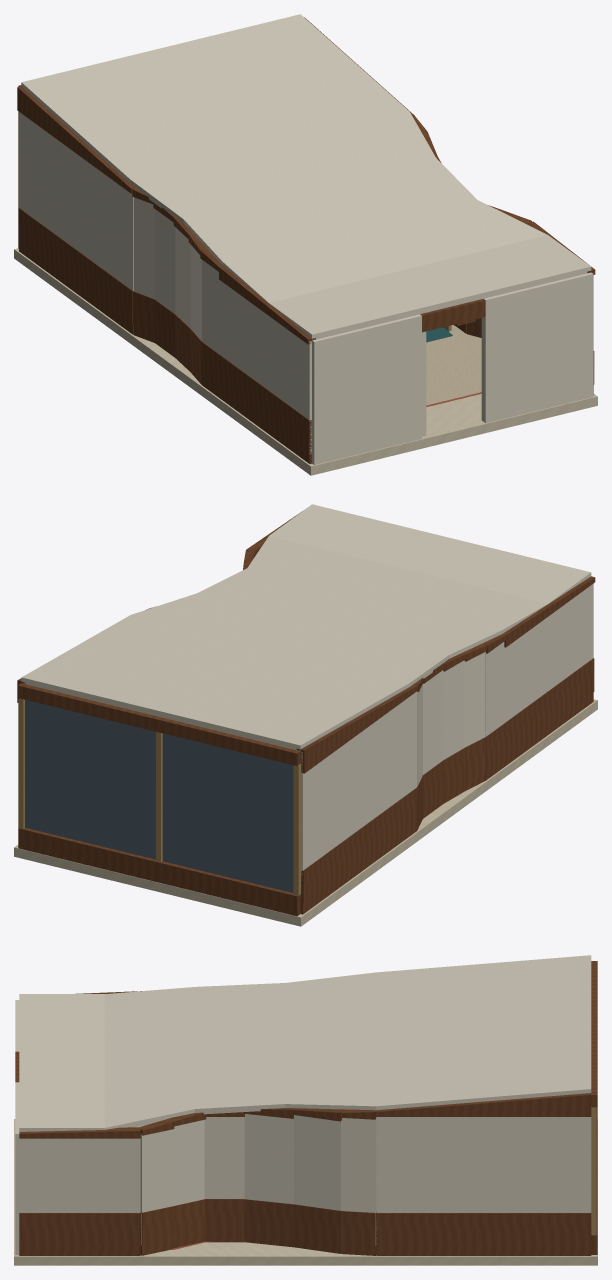
The model's file is shell.glb.
3 renders of one model, top to bottom at view 1: azimuth 30°, elevation 25°; view 2: azimuth 150°, elevation 25°; view 3: azimuth 270°, elevation 25°, orthographic.
Parts seen in each view (by area): view 1: SA_Runtime_ivory_enamel, SA_Runtime_warm_walnut, SA_Runtime_warm_stone, SA_Runtime_oatmeal_weave; view 2: SA_Runtime_ivory_enamel, SA_Runtime_SA_SourceDirectionalPrivacy_NOT_RUNTIME_ACCEPTED, SA_Runtime_warm_walnut, SA_Runtime_warm_stone, SA_Runtime_champagne_metal; view 3: SA_Runtime_ivory_enamel, SA_Runtime_warm_walnut, SA_Runtime_warm_stone, SA_Runtime_champagne_metal.
Part boxes in pixels (bbox=[...]): SA_Runtime_ivory_enamel: bbox=[19, 14, 593, 464]; SA_Runtime_warm_walnut: bbox=[17, 17, 595, 463]; SA_Runtime_warm_stone: bbox=[14, 248, 597, 475]; SA_Runtime_oatmeal_weave: bbox=[426, 325, 481, 405]; SA_Runtime_ivory_enamel: bbox=[21, 504, 593, 885]; SA_Runtime_SA_SourceDirectionalPrivacy_NOT_RUNTIME_ACCEPTED: bbox=[25, 700, 293, 892]; SA_Runtime_warm_walnut: bbox=[17, 511, 595, 916]; SA_Runtime_warm_stone: bbox=[14, 699, 597, 926]; SA_Runtime_champagne_metal: bbox=[18, 698, 300, 895]; SA_Runtime_ivory_enamel: bbox=[15, 955, 591, 1254]; SA_Runtime_warm_walnut: bbox=[15, 961, 597, 1255]; SA_Runtime_warm_stone: bbox=[14, 1119, 597, 1265]; SA_Runtime_champagne_metal: bbox=[591, 1107, 596, 1235].
Bounding box in the file's own units: 7.2 × 4.26 × 12.9.
Materials: 9 (7 with a texture image).
